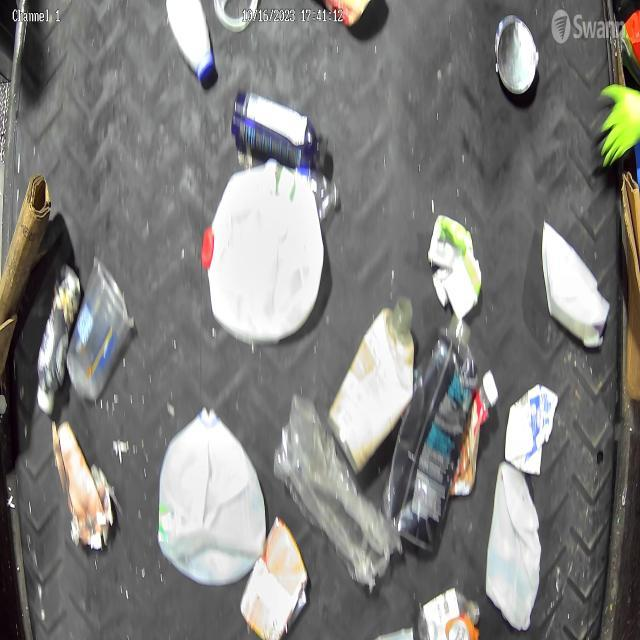milk_jug: (203, 156, 324, 345)
